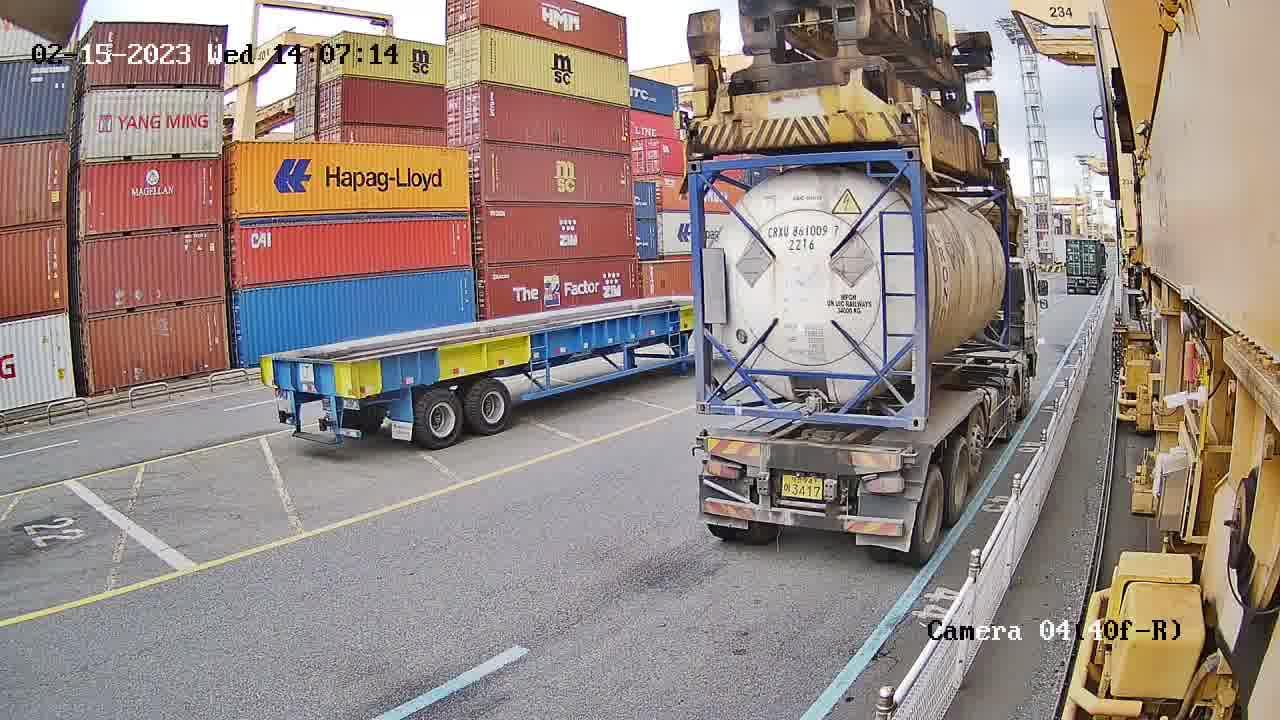Chassis: (697, 439, 909, 478)
Cone: (692, 427, 711, 455), (898, 446, 918, 471)
Hole_L: (693, 385, 733, 415)
Hole_R: (883, 393, 927, 432)
Tire: (915, 471, 944, 561), (944, 440, 970, 523), (969, 410, 986, 475)
